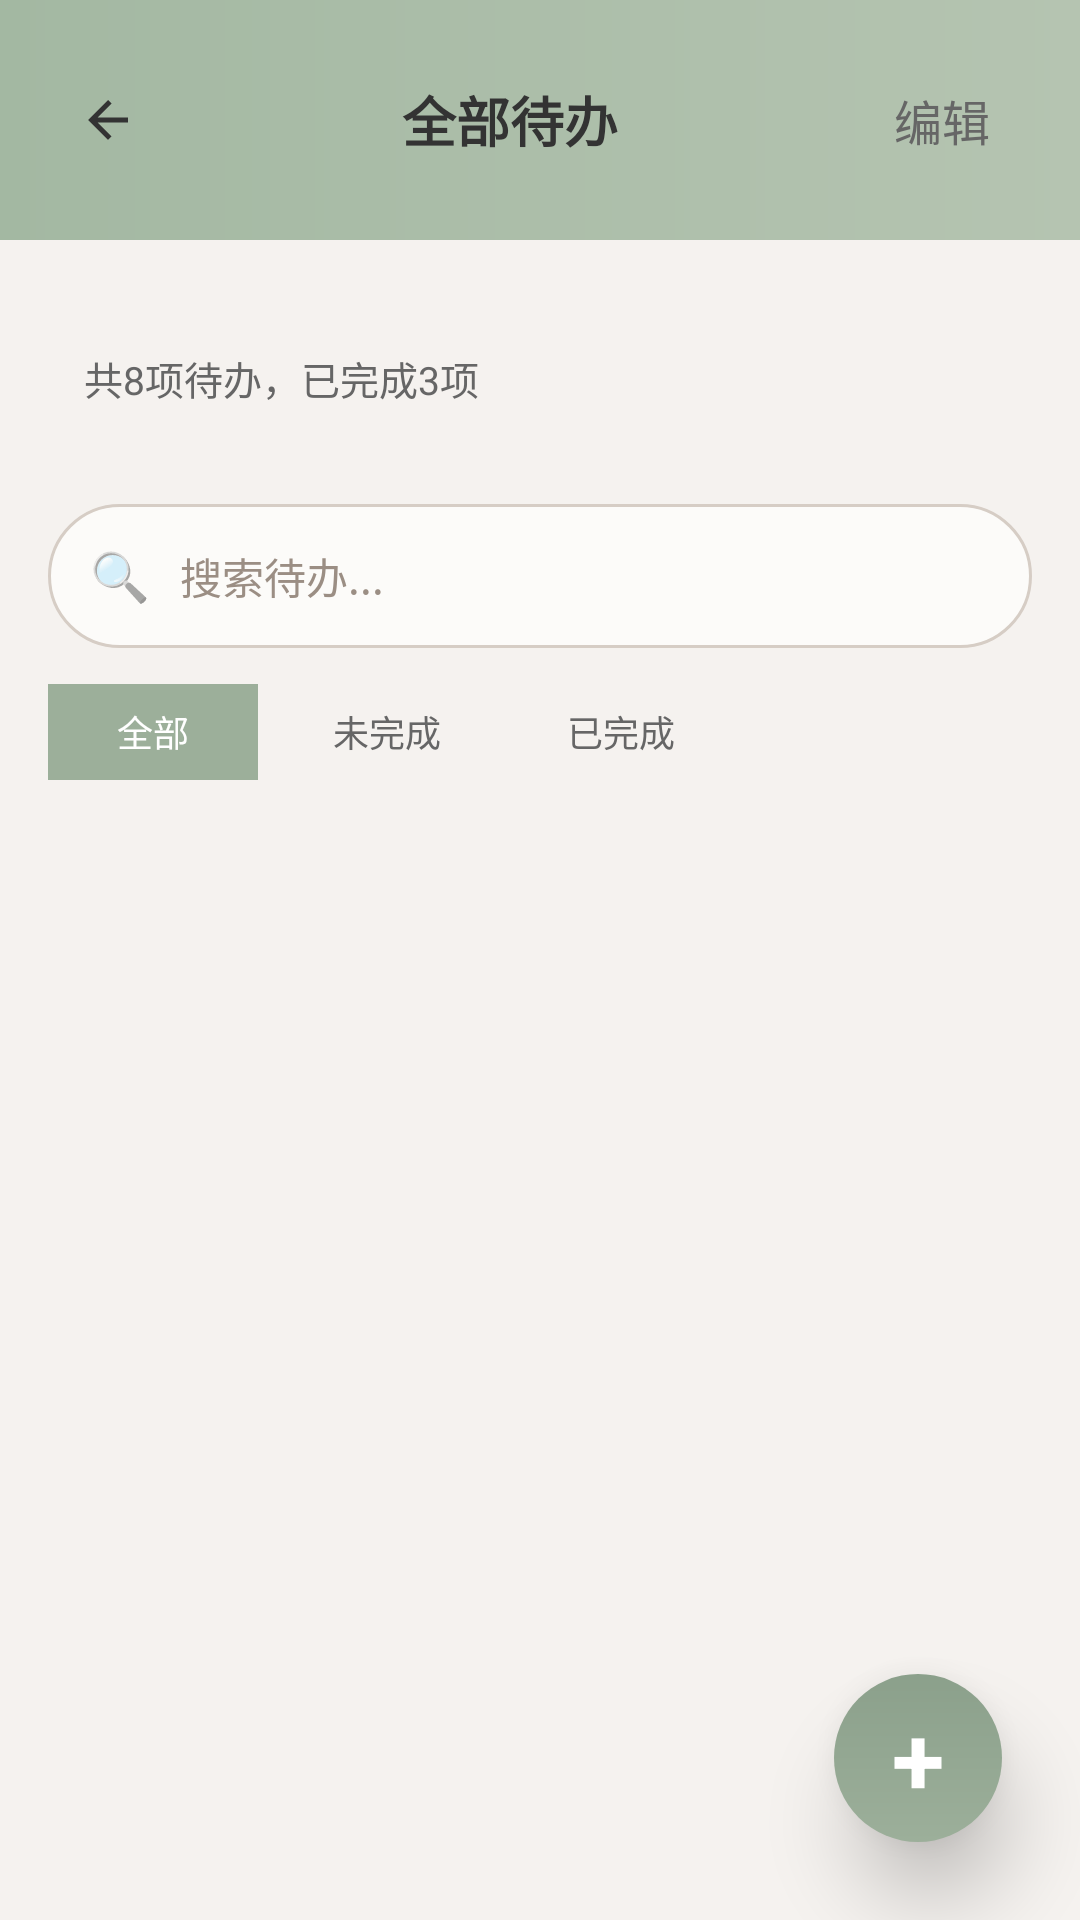

Screen size 1080x1920. Icon name, then its center in pixels as [x,y]:
back: [108,120]
